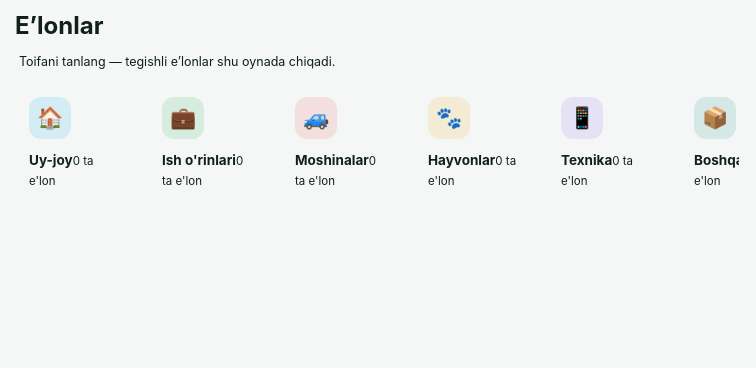
Test: v1656 public E'lonlar › keeps the exact v1656 empty-category text
Click the button "📱 Texnika0 ta e'lon" at (608,143), box [547, 83, 669, 203]
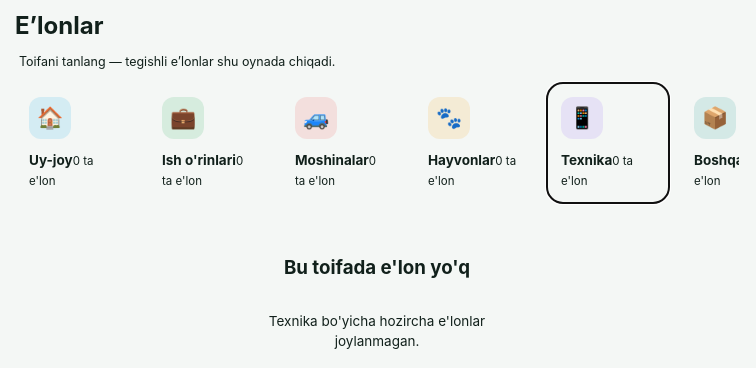
Expected: the heading "Bu toifada e'lon yo'q" is shown, [284, 256, 470, 278]
Expected: the text "Texnika bo'yicha hozircha e'lonlar joylanmagan." is shown, [257, 311, 497, 351]
